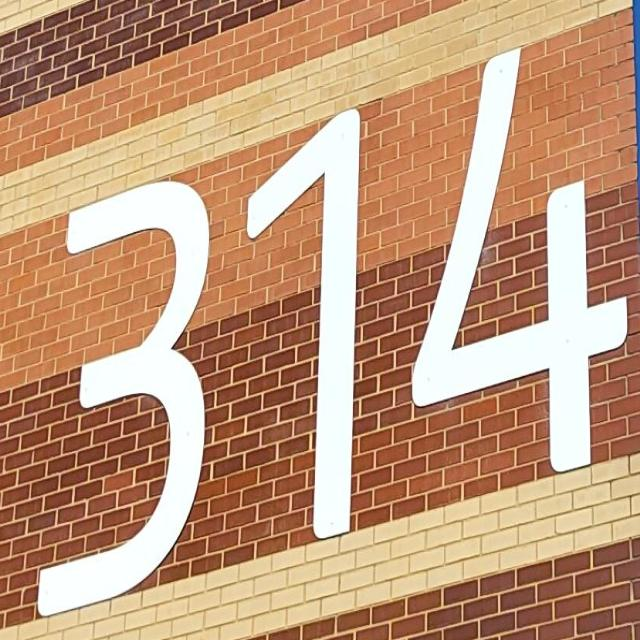character: (408, 44, 632, 476), (32, 175, 217, 624), (245, 102, 365, 544)
